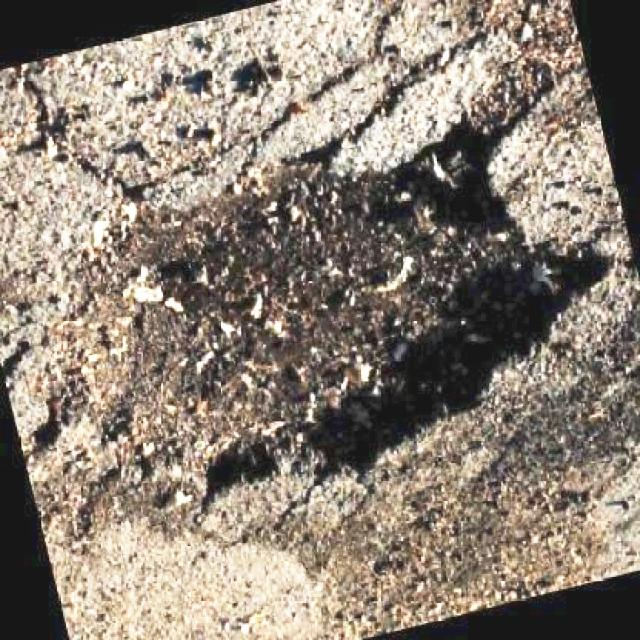pothole: (41, 106, 624, 497)
